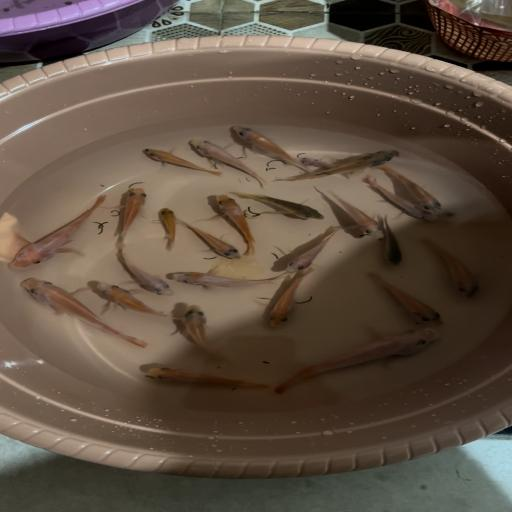nila: (275, 326, 442, 394), (21, 275, 151, 349), (2, 192, 117, 272), (357, 270, 452, 325), (137, 358, 267, 398), (280, 147, 400, 186), (418, 236, 490, 301), (172, 301, 239, 361), (276, 225, 356, 275), (187, 137, 268, 186), (114, 238, 177, 300), (93, 279, 183, 322), (362, 174, 432, 229), (250, 271, 318, 327), (207, 190, 265, 253), (228, 122, 302, 170), (131, 144, 224, 179), (242, 188, 328, 224), (113, 178, 157, 245), (383, 166, 446, 211), (166, 267, 288, 290), (326, 186, 383, 235), (182, 219, 244, 262), (373, 216, 413, 272), (148, 206, 187, 253), (291, 154, 333, 172)
